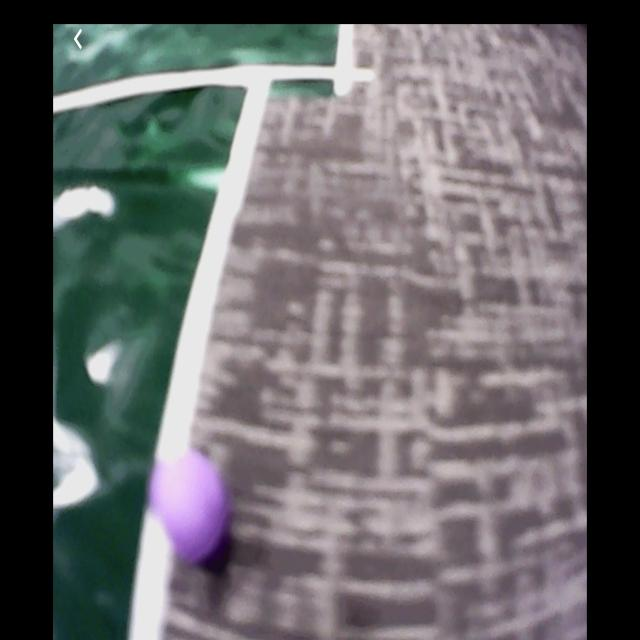ball: (156, 453, 229, 569)
